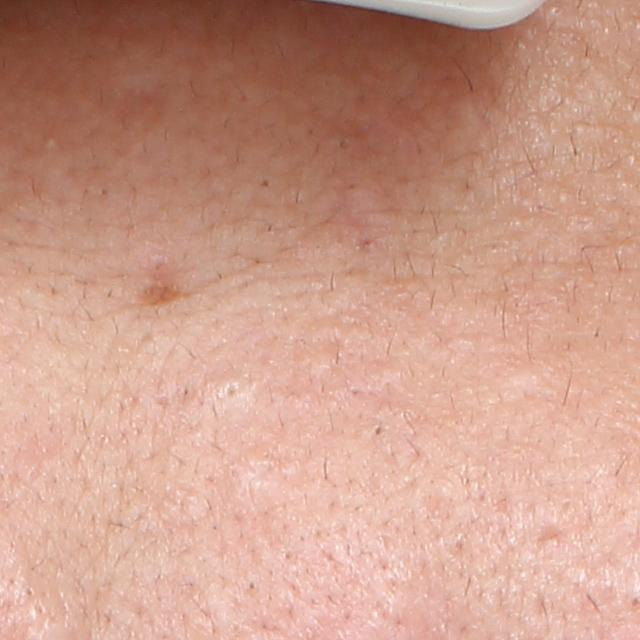atrophic_scar: (134, 247, 188, 313)
comedo: (217, 374, 249, 406), (366, 420, 390, 441), (254, 173, 277, 194), (44, 132, 62, 152)
